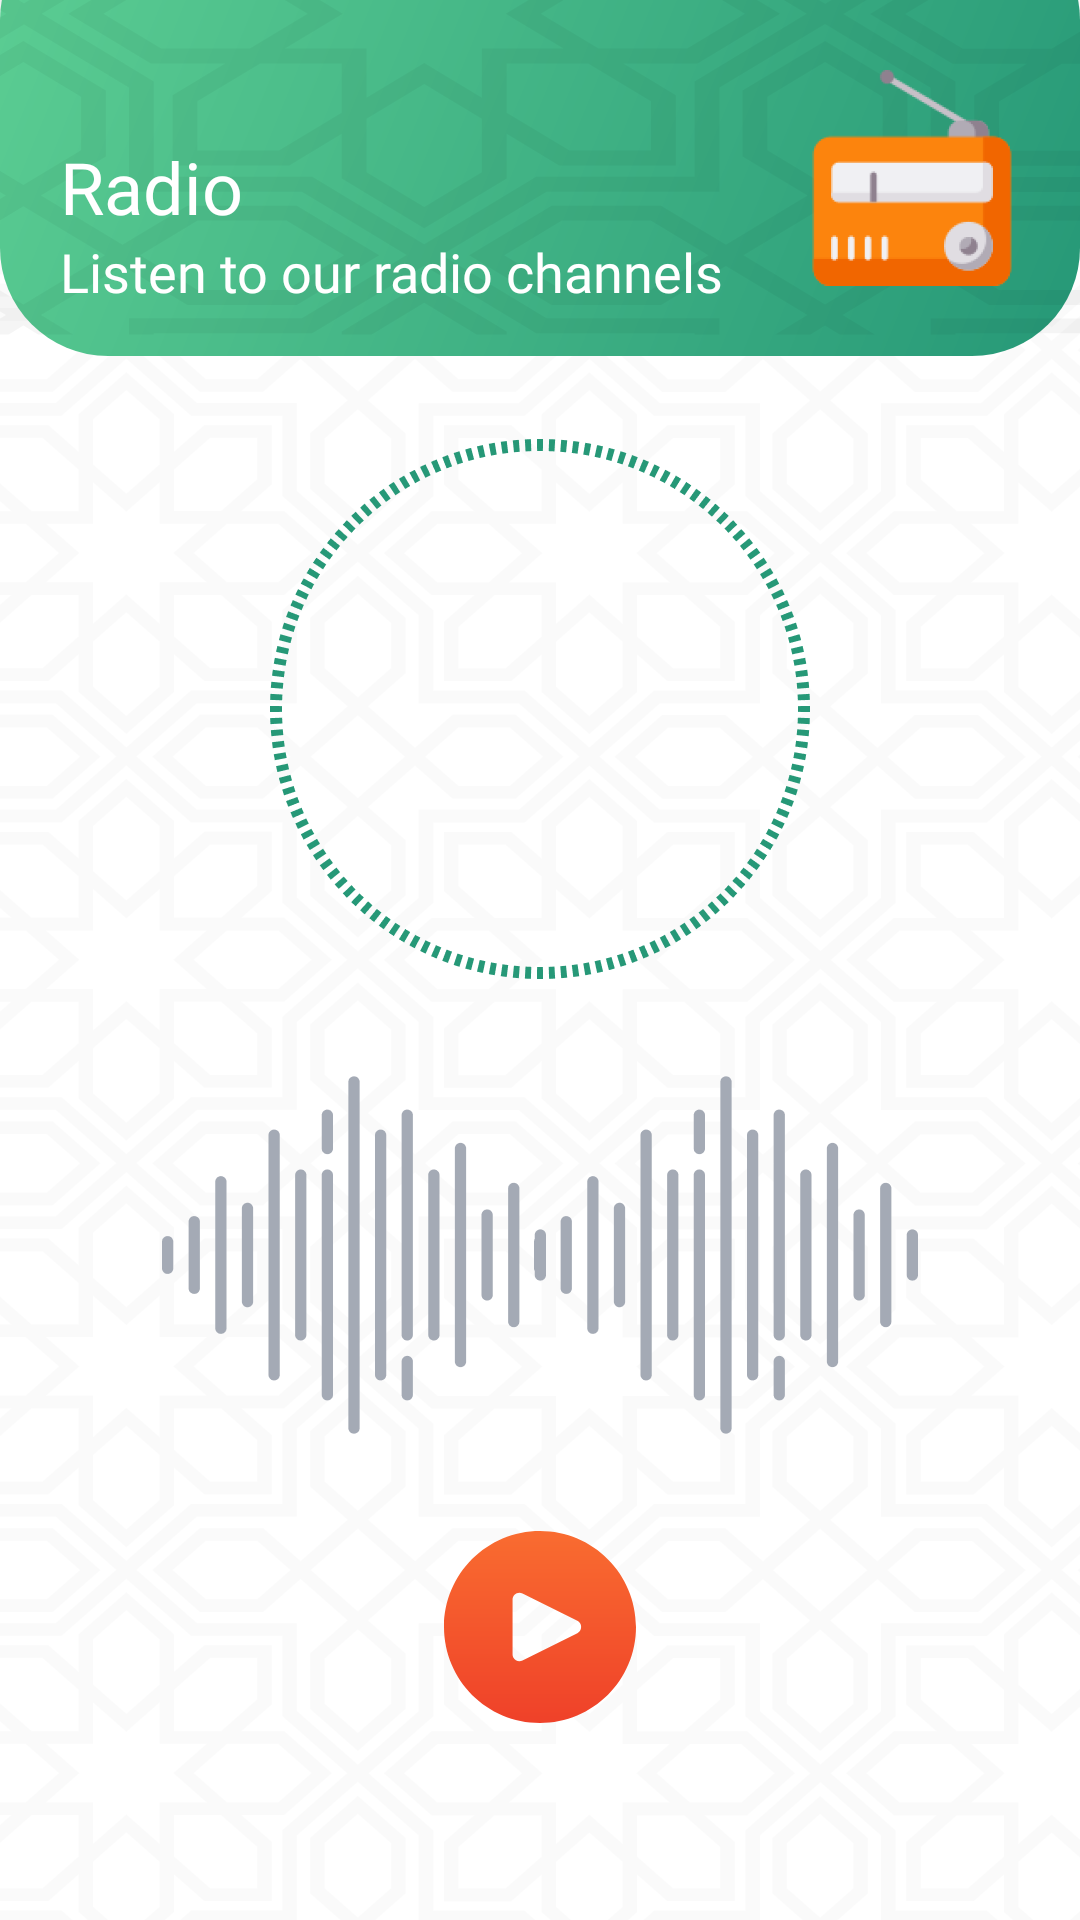

Icons on this 1080*1920 Android screen, each with the point to tap as (x=x, y=y):
play: (x=540, y=1627)
